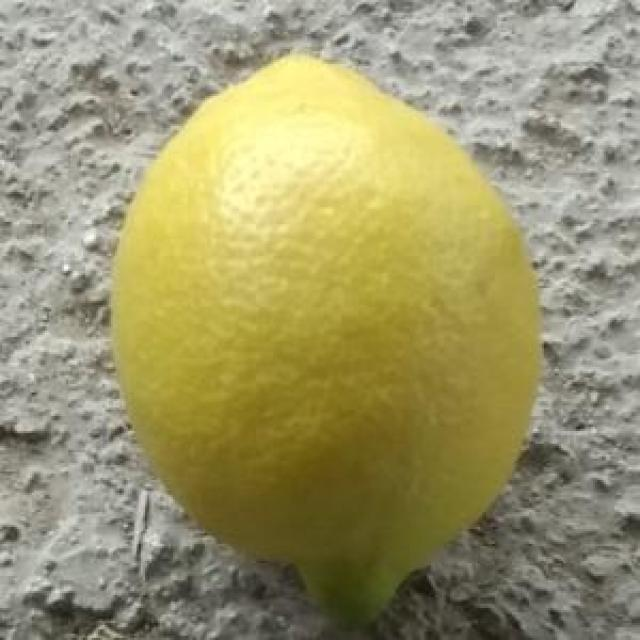lemon: (106, 54, 549, 630)
